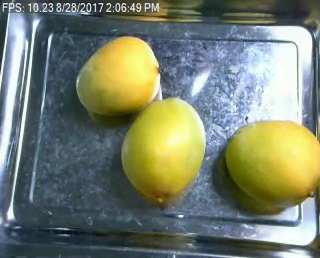Mango: (119, 96, 209, 199), (225, 120, 320, 209), (75, 35, 166, 118)
